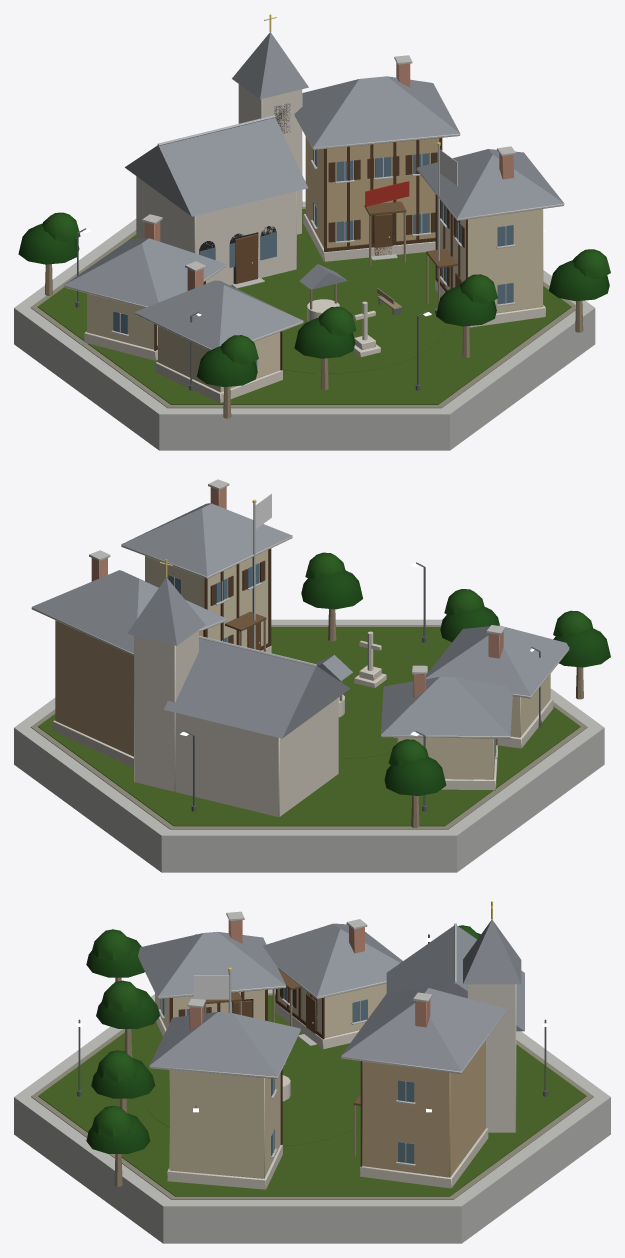
Rendered from villageCenter_asia.glb.
The picture shows the model from 3 angles, top to bottom: view 1: azimuth 30°, elevation 25°; view 2: azimuth 150°, elevation 25°; view 3: azimuth 270°, elevation 25°; orthographic projection. The views are drawn at different scales.
Visible parts, largest first — view 1: roof_slate, wall_concrete, turf, plaster, stone, leaf, wood, glass, pavers, brick, dark, paint (+2 smaller); view 2: roof_slate, wall_concrete, turf, stone, plaster, leaf, pavers, wood, brick, metal, steel_dark, glass; view 3: roof_slate, wall_concrete, turf, plaster, leaf, stone, pavers, wood, brick, glass, banner, steel_dark.
Part boxes in pixels (left/top/right/bottom): roof_slate: left=64, top=32, right=564, bottom=349; wall_concrete: left=14, top=55, right=595, bottom=450; turf: left=37, top=209, right=571, bottom=404; plaster: left=87, top=136, right=543, bottom=392; stone: left=84, top=84, right=545, bottom=402; leaf: left=18, top=212, right=610, bottom=386; wood: left=45, top=137, right=583, bottom=418; glass: left=113, top=149, right=513, bottom=368; pavers: left=30, top=207, right=575, bottom=408; brick: left=144, top=62, right=513, bottom=290; dark: left=199, top=104, right=393, bottom=283; paint: left=365, top=181, right=409, bottom=206; roof_slate: left=32, top=503, right=569, bottom=738; wall_concrete: left=14, top=479, right=604, bottom=872; turf: left=38, top=627, right=580, bottom=826; stone: left=52, top=630, right=553, bottom=817; plaster: left=55, top=550, right=550, bottom=779; leaf: left=301, top=552, right=610, bottom=795; pavers: left=30, top=625, right=587, bottom=829; wood: left=203, top=548, right=583, bottom=827; brick: left=91, top=487, right=503, bottom=697; metal: left=199, top=503, right=316, bottom=666; steel_dark: left=185, top=562, right=541, bottom=811; glass: left=168, top=563, right=495, bottom=756; roof_slate: left=138, top=919, right=524, bottom=1076; wall_concrete: left=14, top=911, right=610, bottom=1243; turf: left=38, top=995, right=586, bottom=1196; plaster: left=155, top=970, right=485, bottom=1178; leaf: left=86, top=925, right=480, bottom=1153; stone: left=156, top=984, right=516, bottom=1189; pavers: left=31, top=993, right=593, bottom=1199; wood: left=114, top=972, right=362, bottom=1186; brick: left=189, top=920, right=430, bottom=1030; glass: left=160, top=987, right=414, bottom=1163; banner: left=193, top=975, right=229, bottom=999; steel_dark: left=77, top=934, right=547, bottom=1107.
Size of the model in its own units: 21.37 by 11.8 by 24.6.
